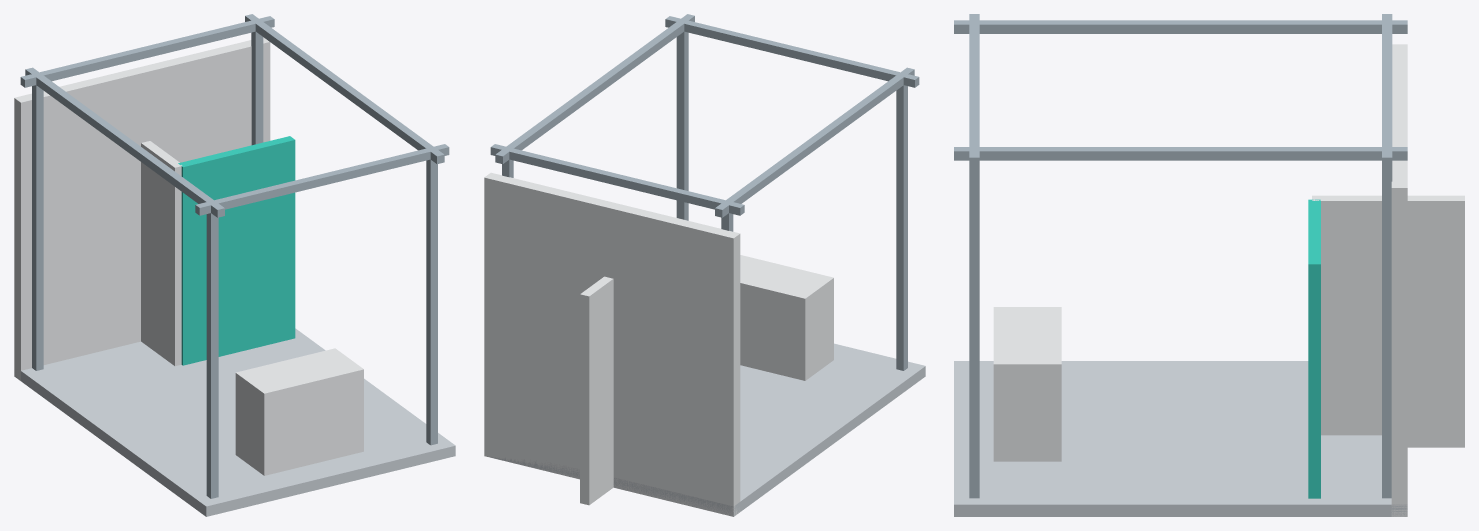
3 views of the same model, side by side, from view 1: azimuth 30°, elevation 25°; view 2: azimuth 150°, elevation 25°; view 3: azimuth 270°, elevation 25° (orthographic). The views are drawn at different scales.
Visible parts, largest first — view 1: Exhibition Booth Concept; view 2: Exhibition Booth Concept; view 3: Exhibition Booth Concept.
Boxes of the visible parts, <box> form: Exhibition Booth Concept: <box>14,14,455,516</box>; Exhibition Booth Concept: <box>484,14,925,516</box>; Exhibition Booth Concept: <box>954,14,1464,516</box>.
Size of the model in its own units: 3 by 3.49 by 4.51.
